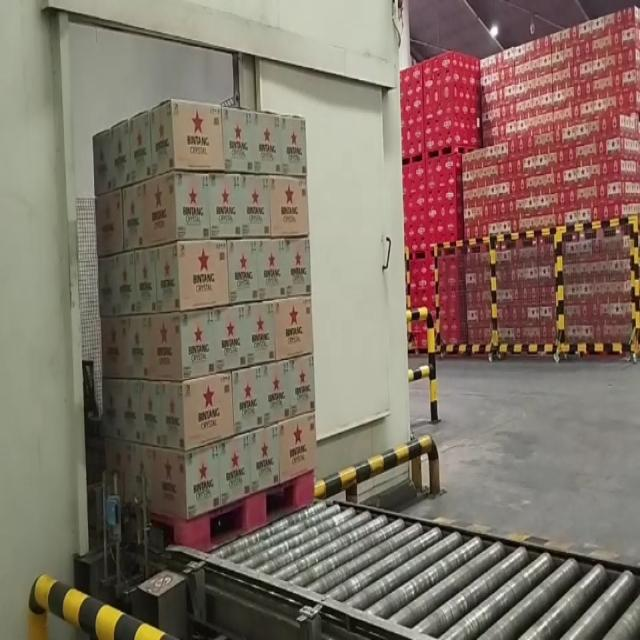pallet: (86, 88, 321, 560)
